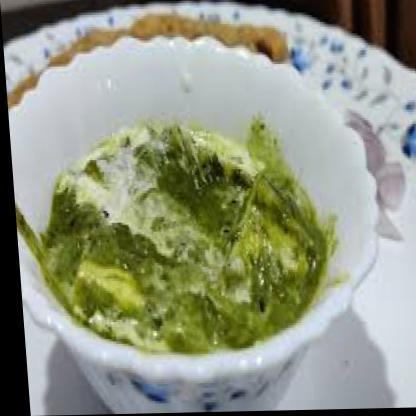palak_paneer: (29, 119, 329, 360)
